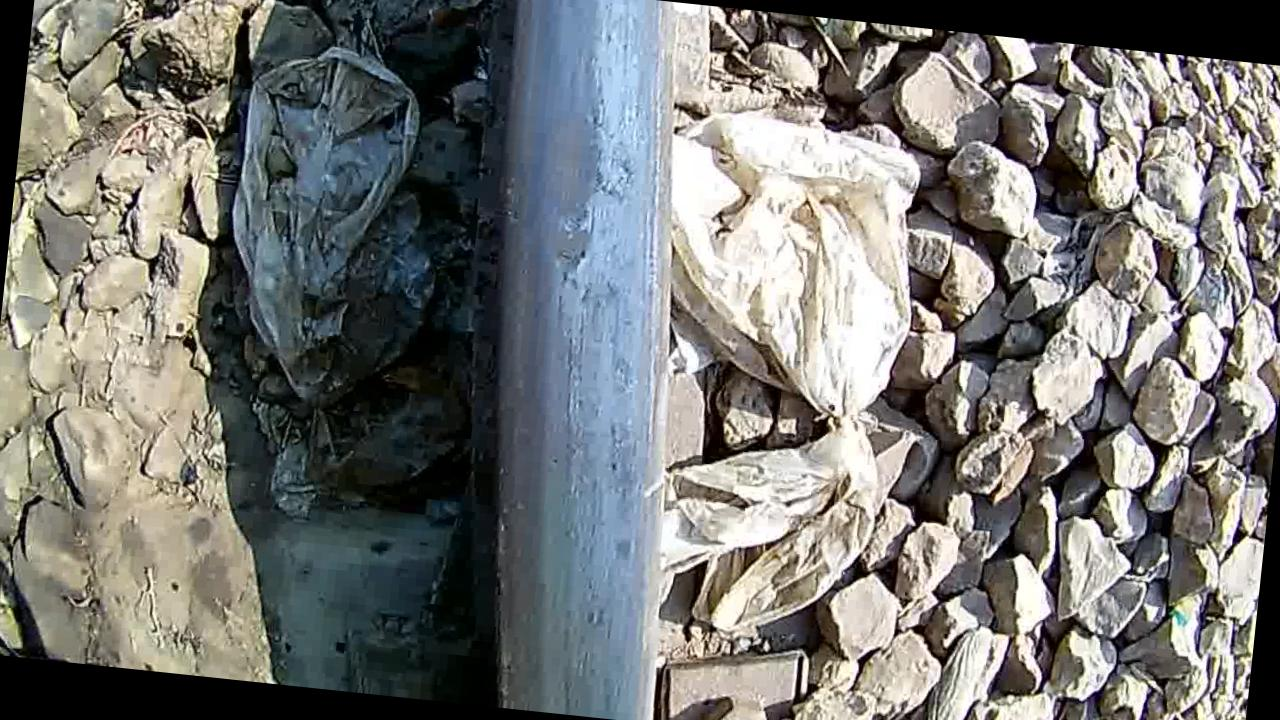bolt_missing: (475, 44, 680, 538)
